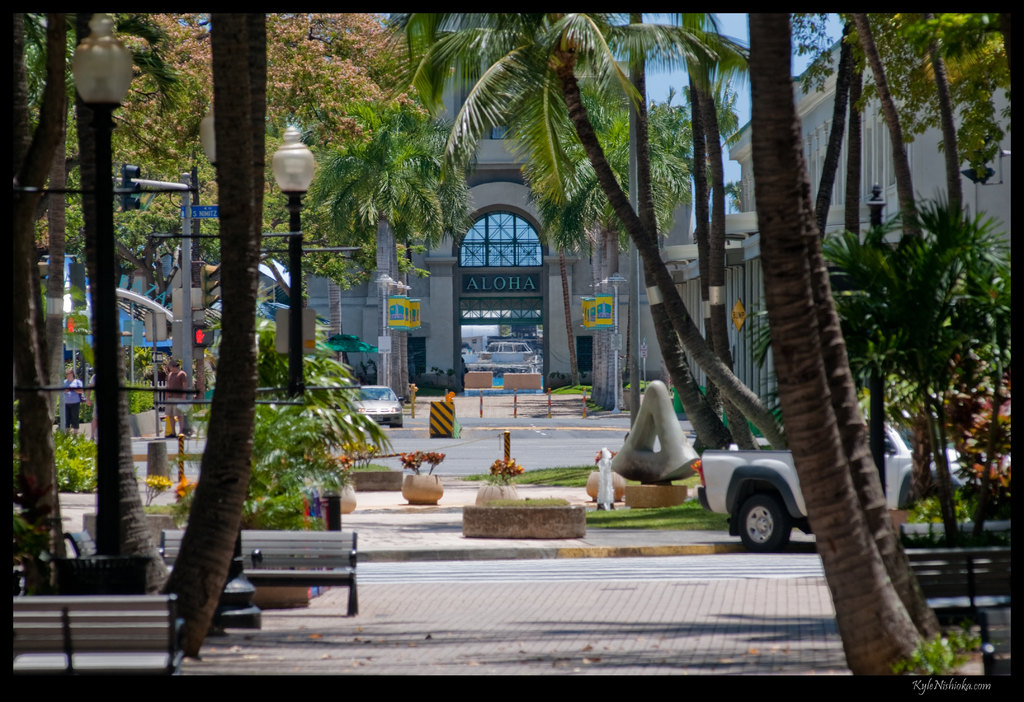Car: (346, 386, 406, 430)
